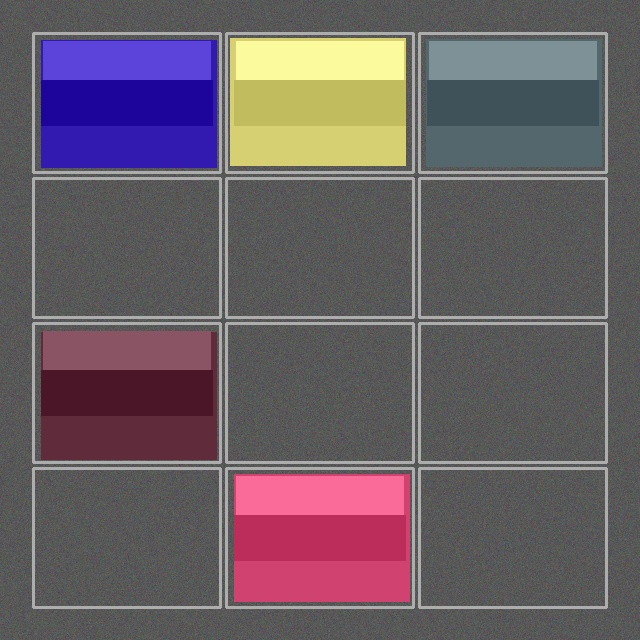space-empty: (35, 180, 218, 315), (228, 180, 411, 315), (421, 180, 604, 315), (228, 325, 411, 460), (421, 325, 604, 460), (35, 470, 218, 605), (421, 470, 604, 605)
space-occupied: (35, 35, 218, 170), (228, 35, 411, 170), (421, 35, 604, 170), (35, 325, 218, 460), (228, 470, 411, 605)
